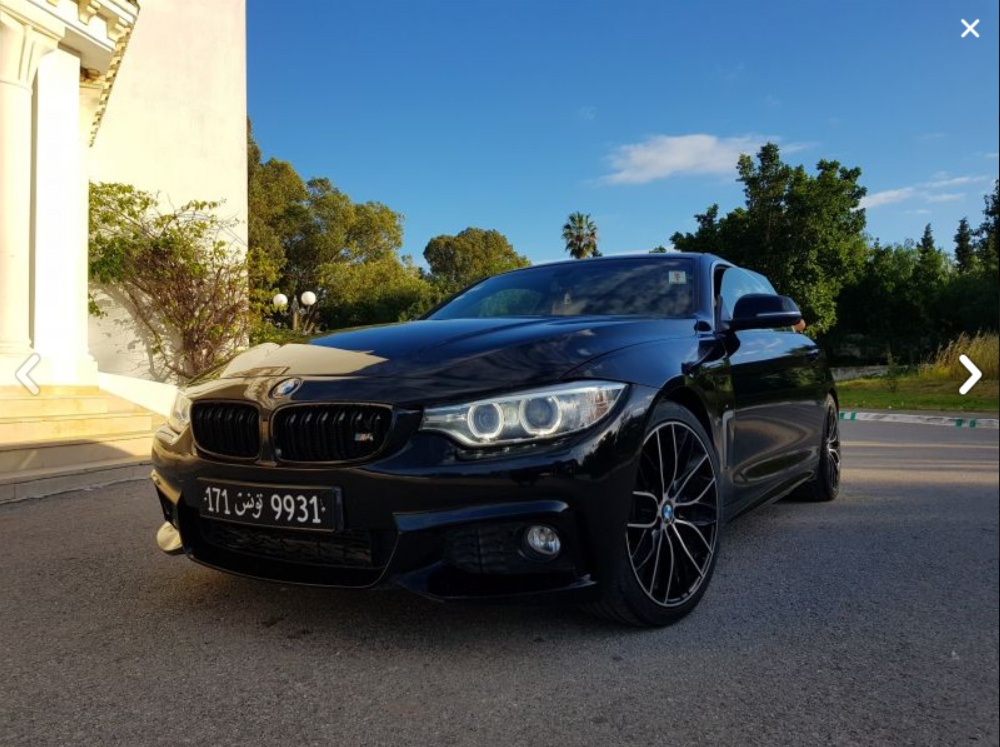LP: (193, 478, 331, 534)
